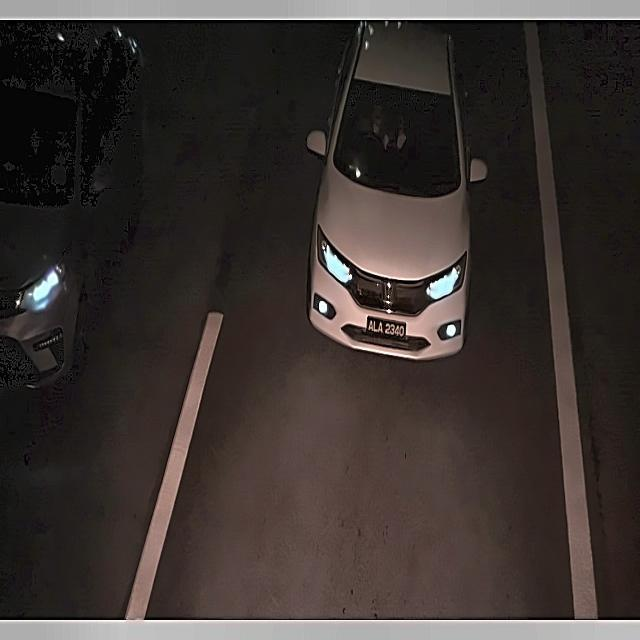car: (363, 310, 411, 348)
